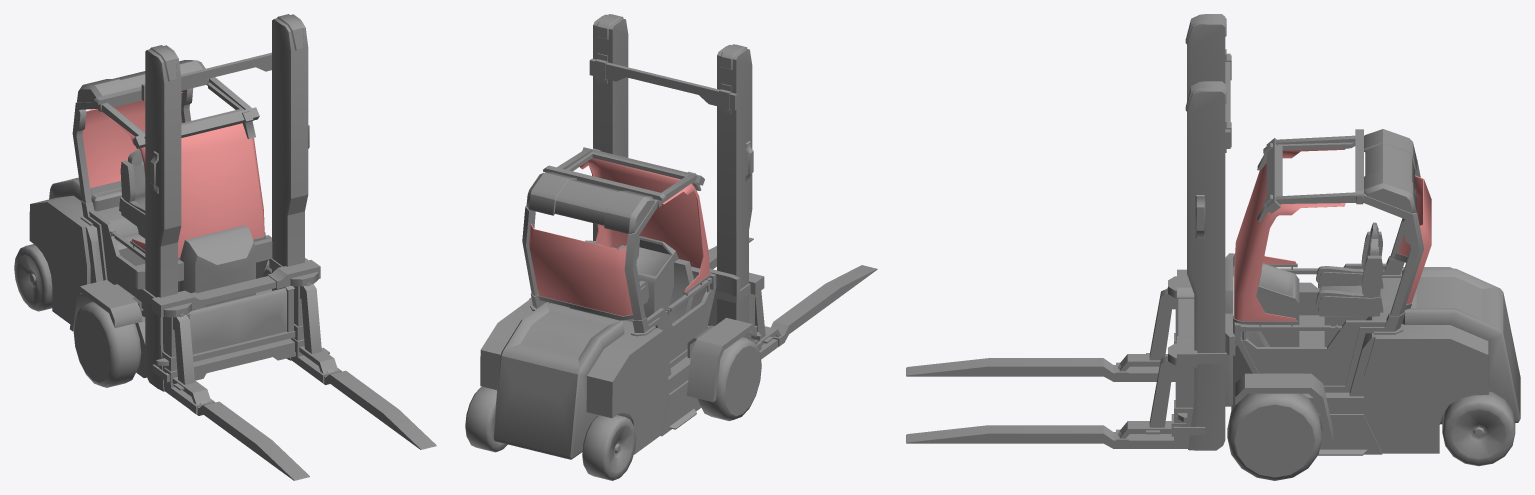
The model's file is S_Envi_Olgk_Forklift_02a.gltf.
The picture shows the model from 3 angles, left to right: view 1: azimuth 30°, elevation 25°; view 2: azimuth 150°, elevation 25°; view 3: azimuth 270°, elevation 25°; orthographic projection. The views are drawn at different scales.
Visible parts, largest first — view 1: S_Envi_Olgk_Forklift_02a; view 2: S_Envi_Olgk_Forklift_02a; view 3: S_Envi_Olgk_Forklift_02a.
Boxes of the visible parts, <box> form: S_Envi_Olgk_Forklift_02a: <box>14,14,436,480</box>; S_Envi_Olgk_Forklift_02a: <box>465,14,877,480</box>; S_Envi_Olgk_Forklift_02a: <box>906,14,1520,480</box>.
Size of the model in its own units: 3.35 by 5.39 by 7.94.
